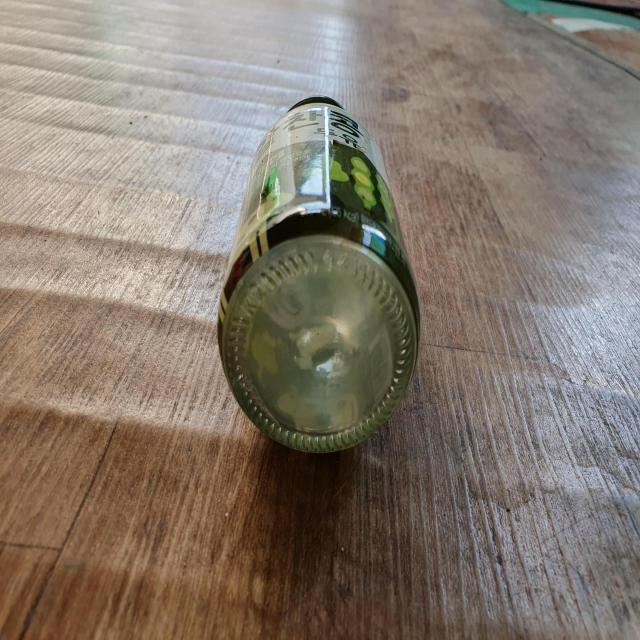glass: (218, 96, 421, 452)
